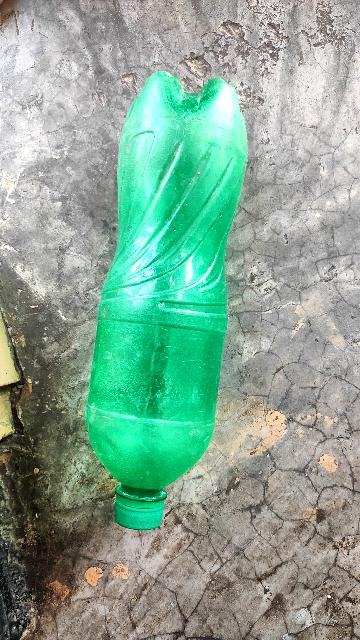bottle: (75, 61, 273, 539)
